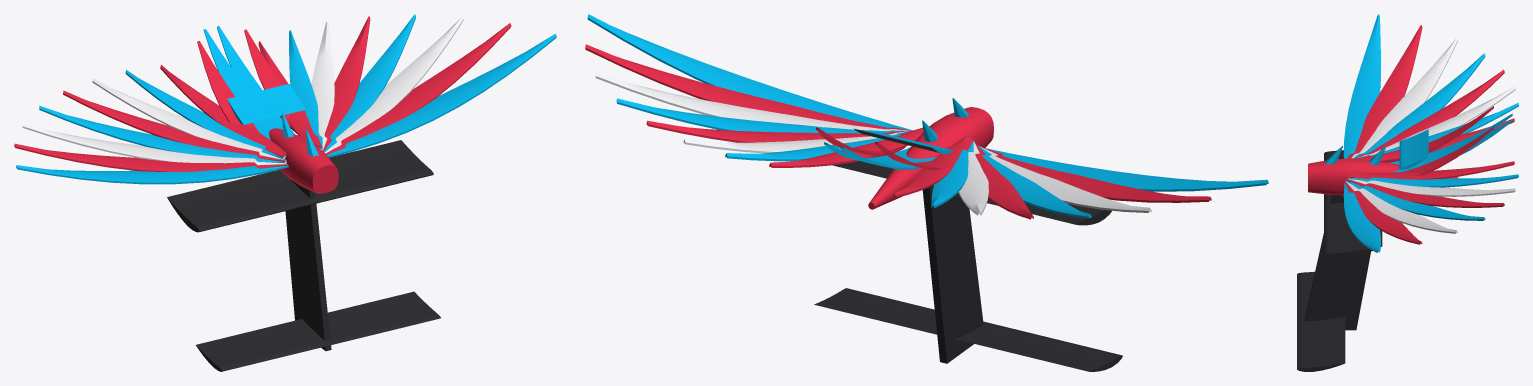
File: phoenix.glb
3 renders of one model, left to right at view 1: azimuth 30°, elevation 25°; view 2: azimuth 150°, elevation 25°; view 3: azimuth 270°, elevation 25°, orthographic. The views are drawn at different scales.
Visible parts, largest first — view 1: RearWing_phoenix, DRSFlap_phoenix; view 2: RearWing_phoenix, DRSFlap_phoenix; view 3: RearWing_phoenix, DRSFlap_phoenix.
Part boxes in pixels (x1,y1,x2,y2): RearWing_phoenix: (14,14,556,371); DRSFlap_phoenix: (227,83,305,124); RearWing_phoenix: (585,14,1268,371); DRSFlap_phoenix: (854,128,952,154); RearWing_phoenix: (1297,14,1518,371); DRSFlap_phoenix: (1399,129,1428,169).
Bounding box in the file's own units: 2.07 × 0.87 × 0.8228.
